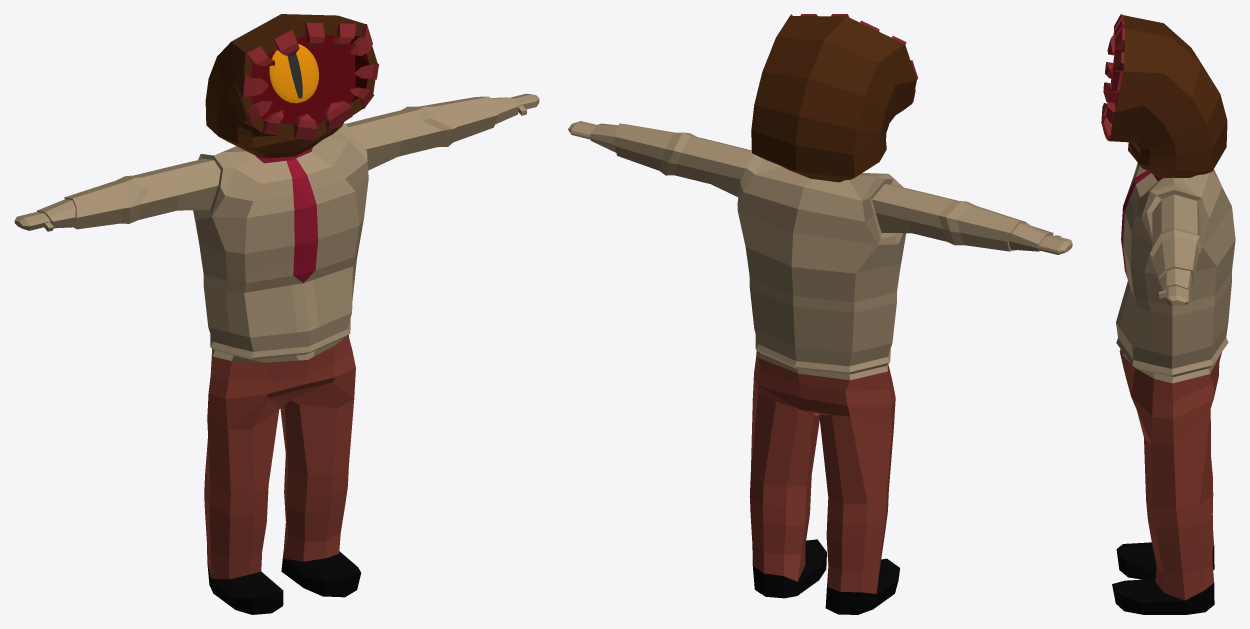
The model's file is canavar.fbx.
The picture shows the model from 3 angles, left to right: view 1: azimuth 30°, elevation 25°; view 2: azimuth 150°, elevation 25°; view 3: azimuth 270°, elevation 25°; orthographic projection. The views are drawn at different scales.
Parts seen in each view (by area): view 1: Cylinder.001; view 2: Cylinder.001; view 3: Cylinder.001.
Boxes of the visible parts, box(x1,y1,x2,y2) form: Cylinder.001: box(14, 14, 539, 614); Cylinder.001: box(568, 14, 1072, 614); Cylinder.001: box(1101, 14, 1235, 614).
Size of the model in its own units: 1122 by 1203 by 262.
